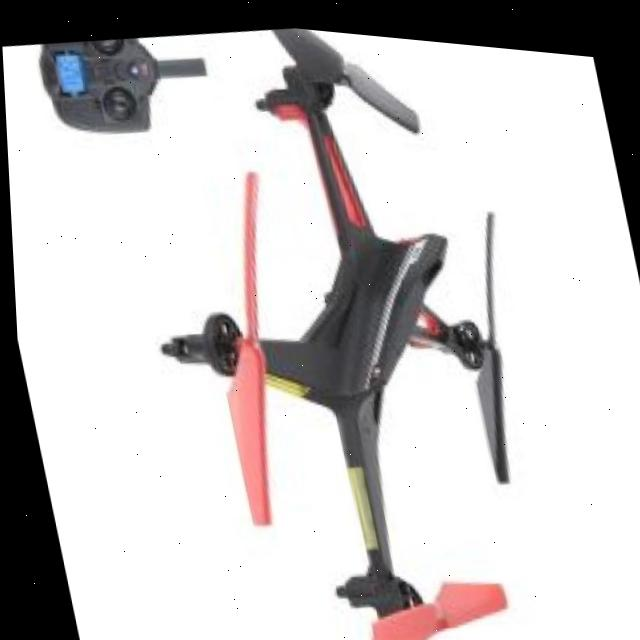drones: (80, 6, 600, 640)
